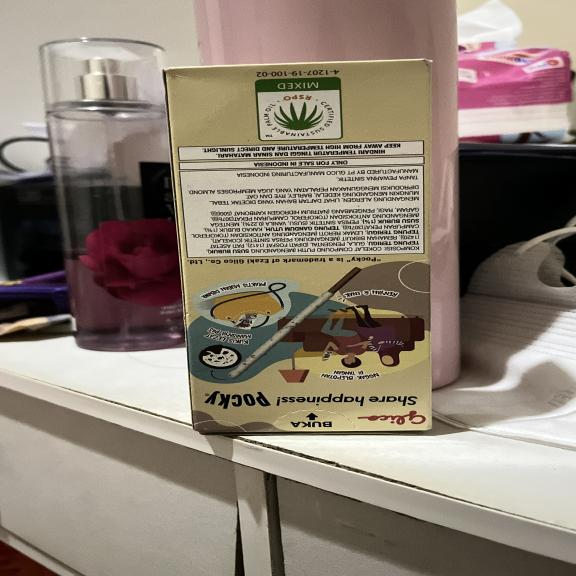Kertas: (165, 60, 437, 437)
